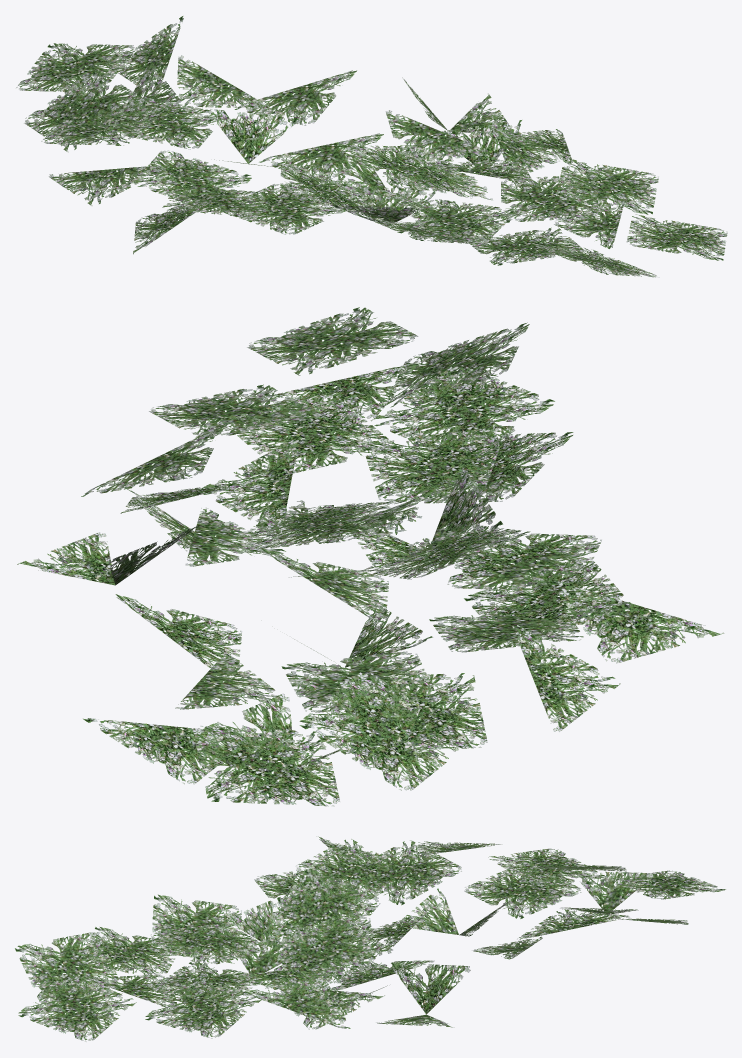
Rendered from ptch_groundflowers_lg_l1.fbx.
The picture shows the model from 3 angles, top to bottom: view 1: azimuth 30°, elevation 25°; view 2: azimuth 150°, elevation 25°; view 3: azimuth 270°, elevation 25°; orthographic projection. The views are drawn at different scales.
Parts seen in each view (by area): view 1: mesh_node; view 2: mesh_node; view 3: mesh_node.
Boxes of the visible parts, bbox=[...] form: mesh_node: bbox=[16, 16, 727, 277]; mesh_node: bbox=[17, 307, 724, 806]; mesh_node: bbox=[15, 836, 725, 1041].
Size of the model in its own units: 1.99 by 0.2129 by 2.87.
1 material, 1 textured.
